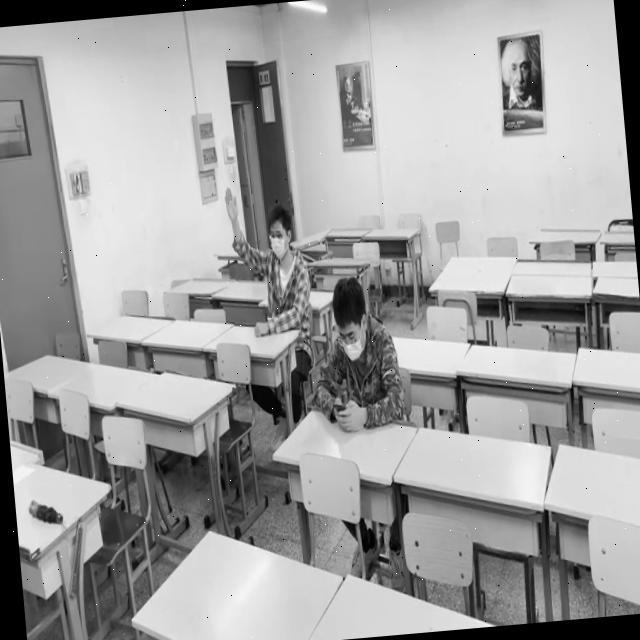phone: (311, 274, 405, 433)
study: (223, 178, 314, 335)
